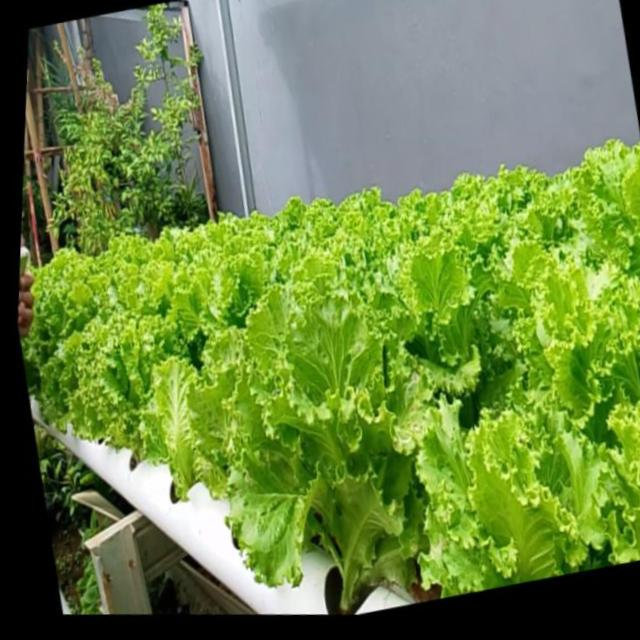Mature: (193, 289, 435, 615), (63, 304, 179, 464)
